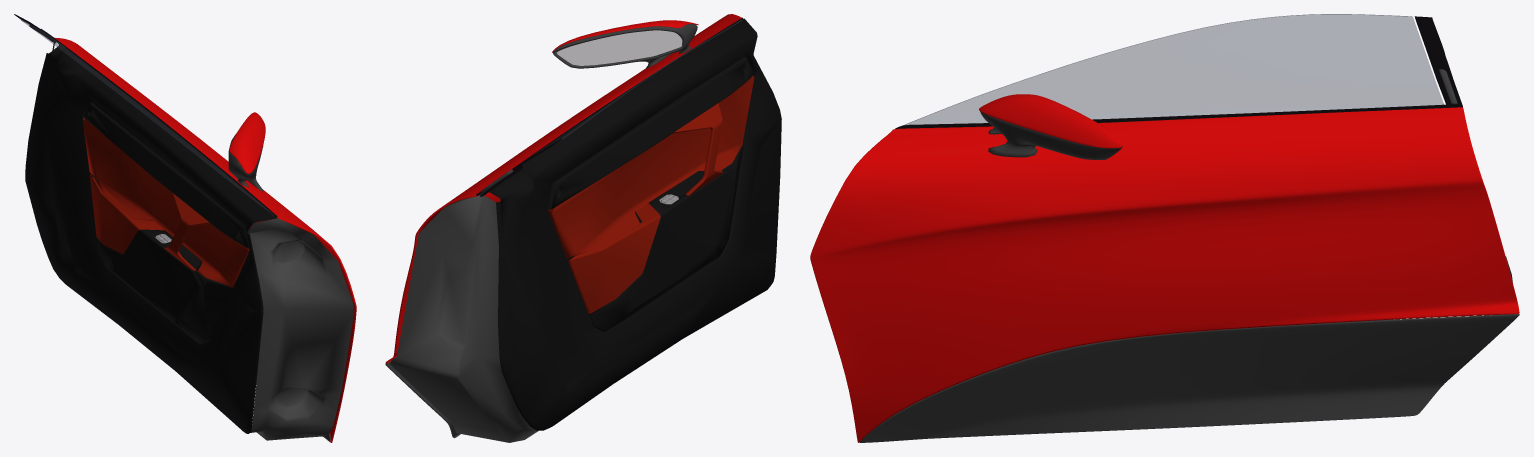
3 renders of one model, left to right at view 1: azimuth 30°, elevation 25°; view 2: azimuth 150°, elevation 25°; view 3: azimuth 270°, elevation 25°, orthographic. The views are drawn at different scales.
Parts seen in each view (by area): view 1: InteriorDoorL01, InteriorDoorL02, InteriorDoorL03, BodyDoorLColor1, InteriorDoorL04, BodyDoorLMirrorColor1, BodyDoorLWindow, InteriorDoorL05, BodyDoorLWindowGasket, BodyDoorLMirrorColor2; view 2: InteriorDoorL01, InteriorDoorL02, InteriorDoorL03, InteriorDoorL04, BodyDoorLColor1, BodyDoorLMirror, BodyDoorLMirrorColor2, InteriorDoorL05, BodyDoorLMirrorColor1, BodyDoorLWindowGasket, BodyDoorLWindow, BodyDoorLColor2; view 3: BodyDoorLColor1, BodyDoorLColor2, BodyDoorLWindow, BodyDoorLMirrorColor1, BodyDoorLMirrorColor2, BodyDoorLWindowGasket, BodyDoorLHandle01.
Boxes of the visible parts, box(x1,y1,x2,y2) form: InteriorDoorL01: box(25, 42, 354, 440); InteriorDoorL02: box(82, 102, 249, 342); InteriorDoorL03: box(83, 118, 249, 287); BodyDoorLColor1: box(54, 37, 356, 442); InteriorDoorL04: box(89, 174, 164, 253); BodyDoorLMirrorColor1: box(229, 112, 265, 173); BodyDoorLWindow: box(21, 20, 274, 215); InteriorDoorL05: box(164, 193, 210, 270); BodyDoorLWindowGasket: box(56, 39, 276, 216); BodyDoorLMirrorColor2: box(228, 134, 263, 191); InteriorDoorL01: box(390, 18, 781, 442); InteriorDoorL02: box(548, 56, 753, 331); InteriorDoorL03: box(548, 76, 754, 258); InteriorDoorL04: box(568, 203, 660, 314); BodyDoorLColor1: box(385, 14, 742, 363); BodyDoorLMirror: box(557, 30, 682, 65); BodyDoorLMirrorColor2: box(552, 24, 697, 68); InteriorDoorL05: box(672, 103, 722, 195); BodyDoorLMirrorColor1: box(552, 20, 698, 52); BodyDoorLWindowGasket: box(476, 18, 742, 195); BodyDoorLWindow: box(531, 19, 742, 156); BodyDoorLColor2: box(385, 361, 460, 438); BodyDoorLColor1: box(810, 107, 1519, 442); BodyDoorLColor2: box(859, 314, 1519, 442); BodyDoorLWindow: box(904, 14, 1443, 125); BodyDoorLMirrorColor1: box(979, 94, 1122, 148); BodyDoorLMirrorColor2: box(980, 111, 1122, 159); BodyDoorLWindowGasket: box(895, 104, 1462, 128); BodyDoorLHandle01: box(1414, 16, 1462, 104).
Size of the model in its own units: 0.4344 by 0.9592 by 1.67.
9 materials, 1 textured.
